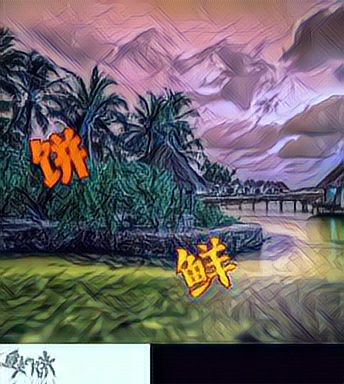B1FD: (29, 125, 92, 191)
CFCA: (174, 232, 237, 298)
